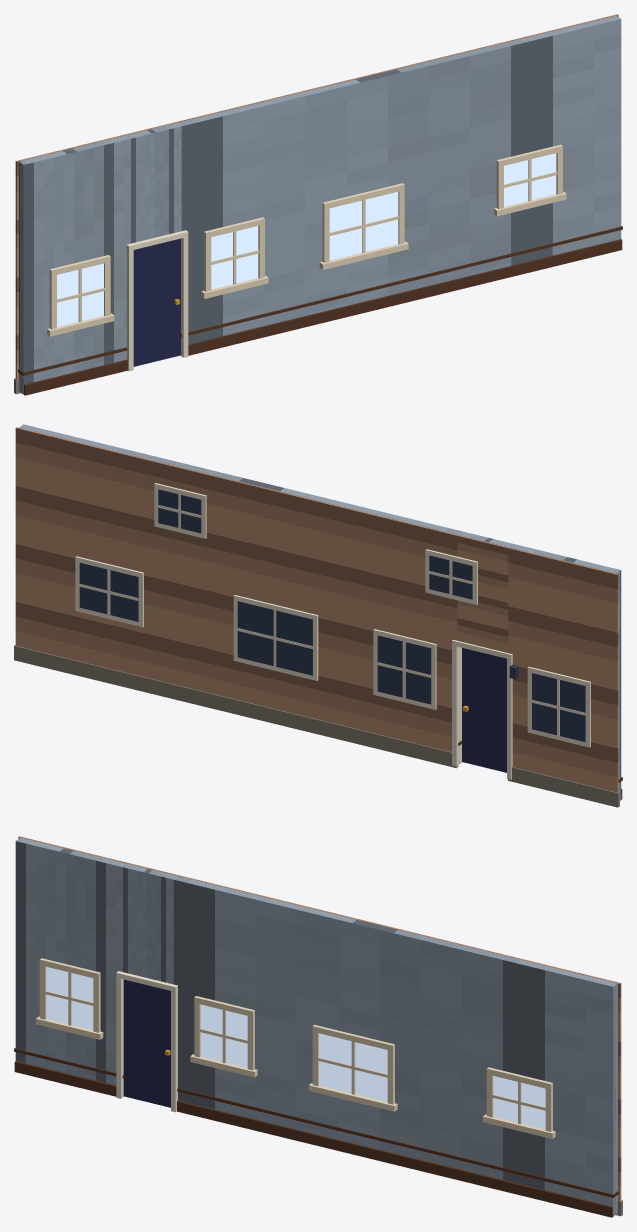
The model's file is front.glb.
The picture shows the model from 3 angles, top to bottom: view 1: azimuth 30°, elevation 25°; view 2: azimuth 150°, elevation 25°; view 3: azimuth 330°, elevation 25°; orthographic projection.
Visible parts, largest first — view 1: Box3, Box1, Box14, Box5, Box4, Box72, Box47, Box36, Box25, Box58, Box73, Box2 (+10 smaller); view 2: Box8, Box6, Box9, Box14, Box10, Box40, Box29, Box18, Box51, Box3, Box7, Box39 (+10 smaller); view 3: Box3, Box1, Box5, Box14, Box4, Box47, Box72, Box25, Box36, Box58, Box73, Box8 (+10 smaller).
Part boxes in pixels (left/top/right/bottom): Box3: left=178, top=15, right=621, bottom=343; Box1: left=19, top=135, right=130, bottom=394; Box14: left=133, top=238, right=180, bottom=366; Box5: left=126, top=123, right=181, bottom=243; Box4: left=188, top=239, right=622, bottom=355; Box72: left=188, top=230, right=621, bottom=344; Box47: left=329, top=192, right=398, bottom=260; Box36: left=211, top=226, right=258, bottom=289; Box25: left=57, top=263, right=103, bottom=326; Box58: left=504, top=153, right=556, bottom=206; Box73: left=180, top=226, right=622, bottom=337; Box2: left=24, top=359, right=127, bottom=395; Box8: left=15, top=427, right=458, bottom=767; Box6: left=508, top=547, right=618, bottom=792; Box9: left=14, top=645, right=457, bottom=768; Box14: left=462, top=648, right=506, bottom=772; Box10: left=457, top=535, right=508, bottom=652; Box40: left=237, top=601, right=312, bottom=675; Box29: left=377, top=635, right=431, bottom=704; Box18: left=532, top=673, right=585, bottom=742; Box51: left=79, top=562, right=138, bottom=621; Box3: left=19, top=424, right=462, bottom=534; Box7: left=508, top=767, right=619, bottom=807; Box39: left=233, top=595, right=318, bottom=680; Box3: left=173, top=876, right=617, bottom=1216; Box1: left=15, top=837, right=126, bottom=1085; Box5: left=123, top=864, right=177, bottom=984; Box14: left=123, top=979, right=170, bottom=1107; Box4: left=177, top=1100, right=612, bottom=1217; Box47: left=319, top=1033, right=387, bottom=1102; Box72: left=178, top=1092, right=617, bottom=1216; Box25: left=46, top=967, right=93, bottom=1030; Box36: left=200, top=1004, right=247, bottom=1067; Box58: left=493, top=1076, right=545, bottom=1129; Box73: left=177, top=1088, right=618, bottom=1197; Box8: left=179, top=875, right=621, bottom=1201.
Bounding box in the file's own units: 11.27 × 4.14 × 0.395.
10 materials, 2 textured.
